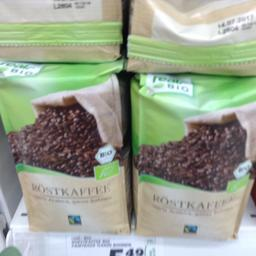coffee: (0, 60, 126, 234), (128, 73, 255, 241)
